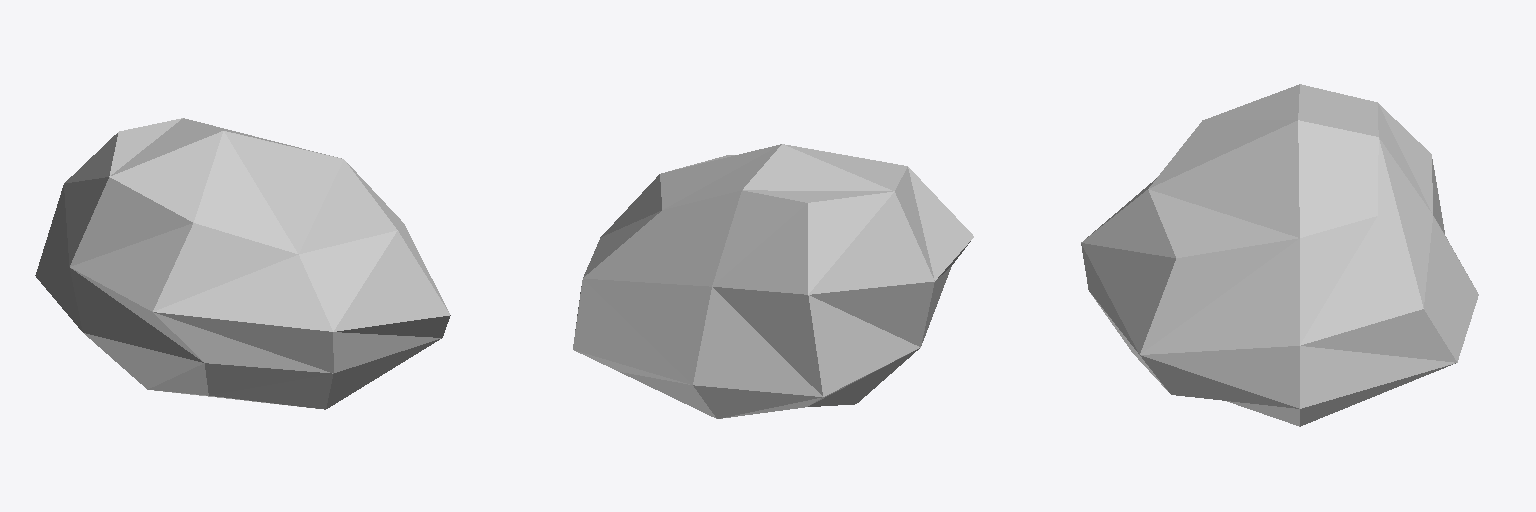
File: SmallRock02_mesh.obj
3 renders of one model, left to right at view 1: azimuth 30°, elevation 25°; view 2: azimuth 150°, elevation 25°; view 3: azimuth 270°, elevation 25°, orthographic.
Visible parts, largest first — view 1: SmallRock02_mesh SmallRock02 SmallRocks; view 2: SmallRock02_mesh SmallRock02 SmallRocks; view 3: SmallRock02_mesh SmallRock02 SmallRocks.
Boxes of the visible parts, <box> form: SmallRock02_mesh SmallRock02 SmallRocks: <box>35,118,450,409</box>; SmallRock02_mesh SmallRock02 SmallRocks: <box>573,144,973,418</box>; SmallRock02_mesh SmallRock02 SmallRocks: <box>1081,84,1478,426</box>.
Bounding box in the file's own units: 153 × 103 × 150.